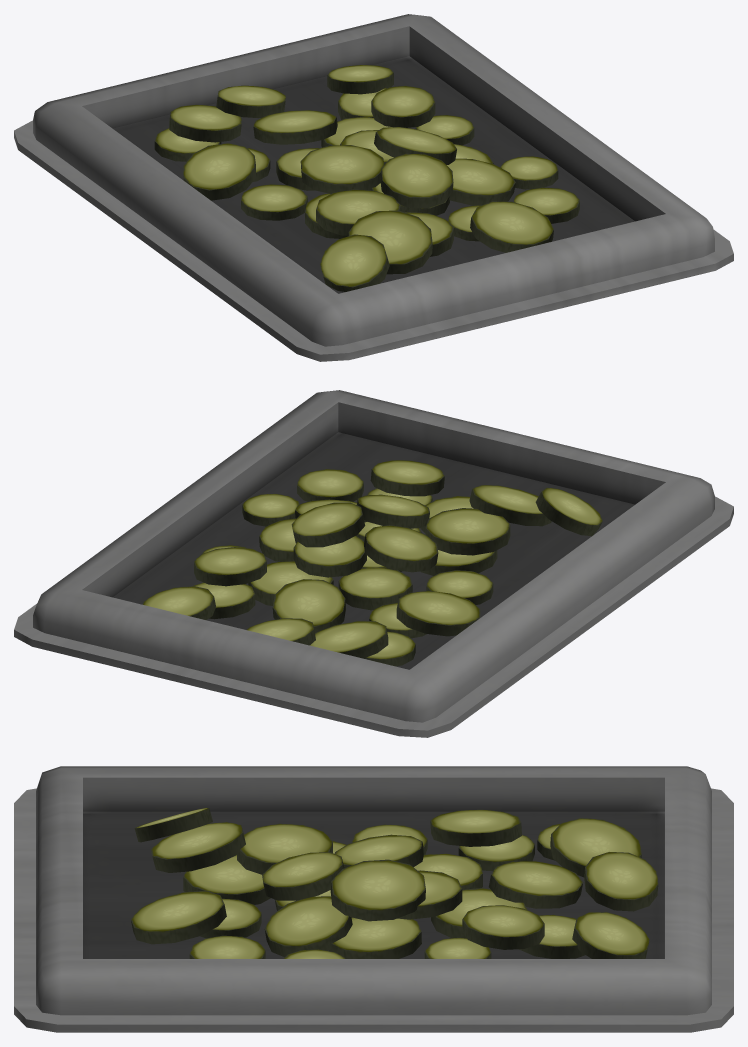
The model's file is rack_gherkins.FBX.
3 views of the same model, one above another, from view 1: azimuth 30°, elevation 25°; view 2: azimuth 150°, elevation 25°; view 3: azimuth 270°, elevation 25° (orthographic). The views are drawn at different scales.
Visible parts, largest first — view 1: rack_gherkins; view 2: rack_gherkins; view 3: rack_gherkins.
Boxes of the visible parts, <box> form: rack_gherkins: <box>14,14,733,361</box>; rack_gherkins: <box>14,390,733,737</box>; rack_gherkins: <box>14,766,733,1032</box>.
Bounding box in the file's own units: 22.34 × 2.63 × 28.36.
